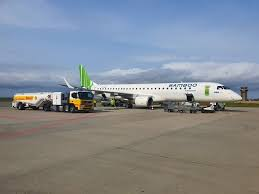maybay_dansu: (57, 69, 241, 110)
